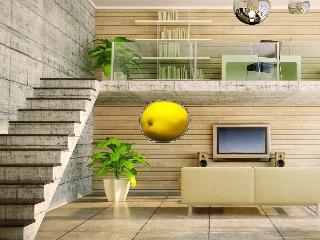lemon: (141, 102, 188, 141)
